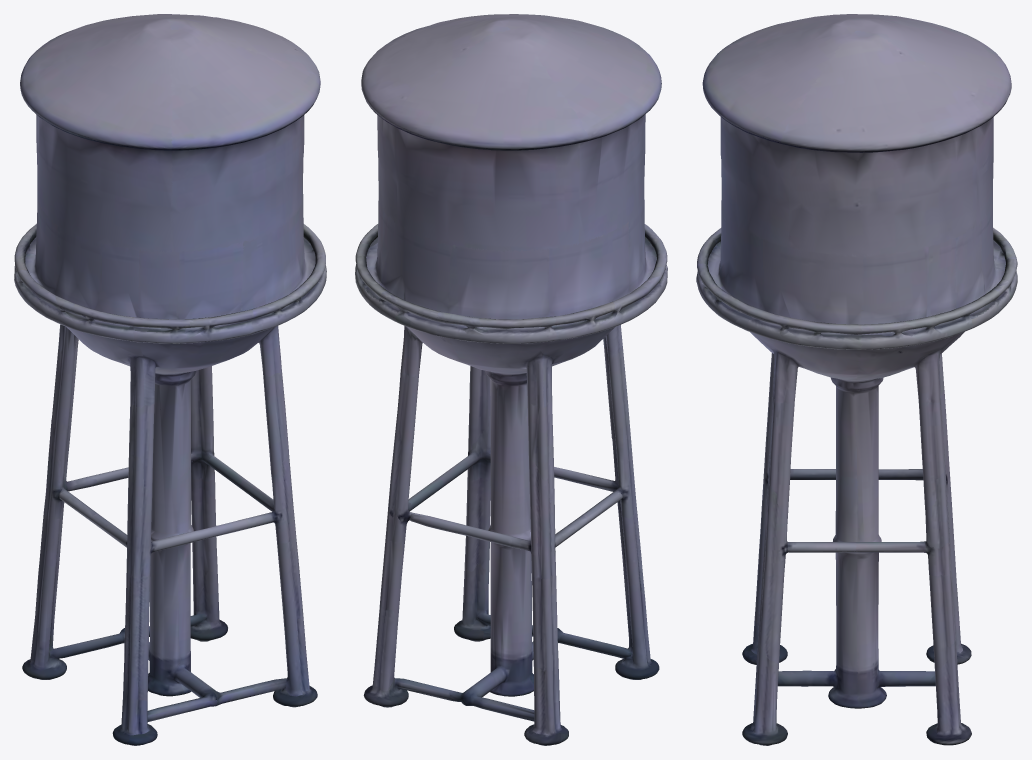
The model's file is water_tower.glb.
3 renders of one model, left to right at view 1: azimuth 30°, elevation 25°; view 2: azimuth 150°, elevation 25°; view 3: azimuth 270°, elevation 25°, orthographic.
Visible parts, largest first — view 1: tripo_node_30da6bf5-8651-407d-94cc-f5b4d7f0bd0a; view 2: tripo_node_30da6bf5-8651-407d-94cc-f5b4d7f0bd0a; view 3: tripo_node_30da6bf5-8651-407d-94cc-f5b4d7f0bd0a.
Part boxes in pixels (bbox=[...]): tripo_node_30da6bf5-8651-407d-94cc-f5b4d7f0bd0a: bbox=[14, 14, 326, 745]; tripo_node_30da6bf5-8651-407d-94cc-f5b4d7f0bd0a: bbox=[355, 14, 667, 745]; tripo_node_30da6bf5-8651-407d-94cc-f5b4d7f0bd0a: bbox=[696, 14, 1017, 745].
Bounding box in the file's own units: 0.4075 × 0.9489 × 0.4102.
Materials: 1 (1 with a texture image).
